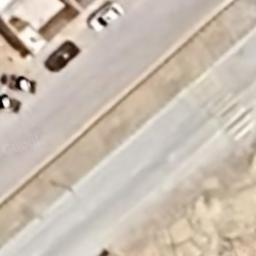sedan: (46, 40, 82, 72), (89, 2, 124, 32)
unknown: (7, 70, 38, 96), (0, 94, 23, 116)
